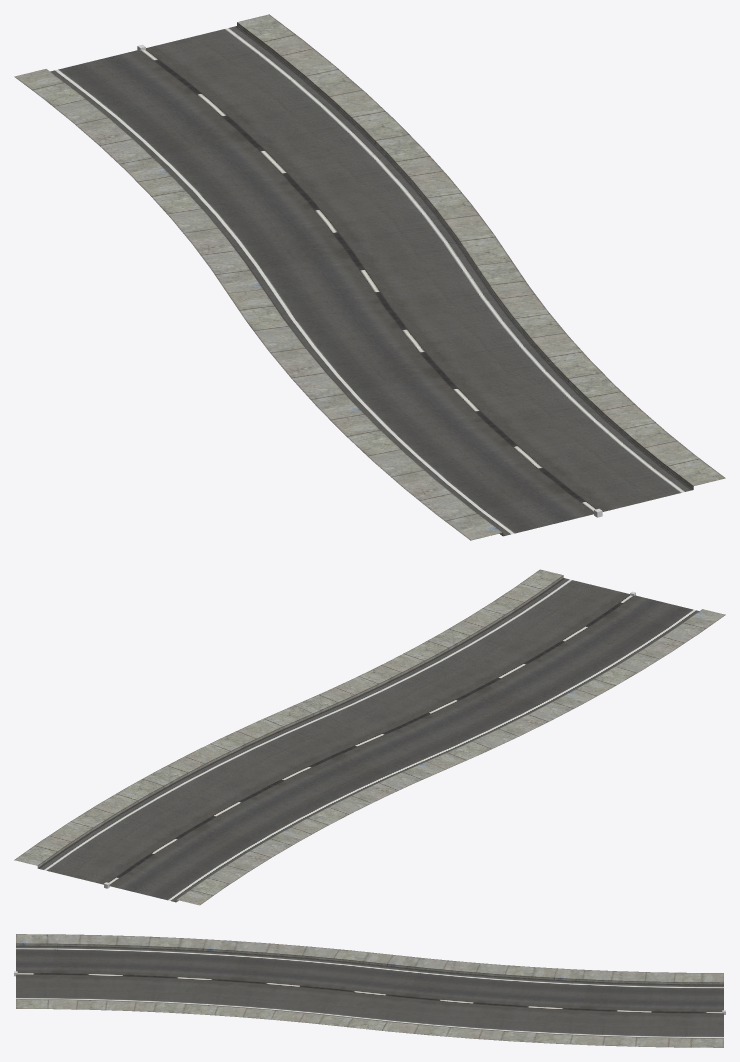
The model's file is roadShift.right1.fbx.
3 views of the same model, one above another, from view 1: azimuth 30°, elevation 25°; view 2: azimuth 150°, elevation 25°; view 3: azimuth 270°, elevation 25° (orthographic). The views are drawn at different scales.
Parts seen in each view (by area): view 1: MESH roadShift.right1; view 2: MESH roadShift.right1; view 3: MESH roadShift.right1.
Boxes of the visible parts, <box> form: MESH roadShift.right1: <box>14,14,725,540</box>; MESH roadShift.right1: <box>14,569,725,905</box>; MESH roadShift.right1: <box>16,934,723,1047</box>.
Size of what is drawn, in the model's own units: 3649 by 58.34 by 9650.
